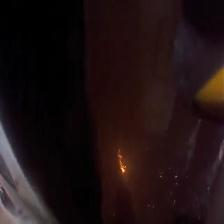fire: (115, 149, 128, 175)
